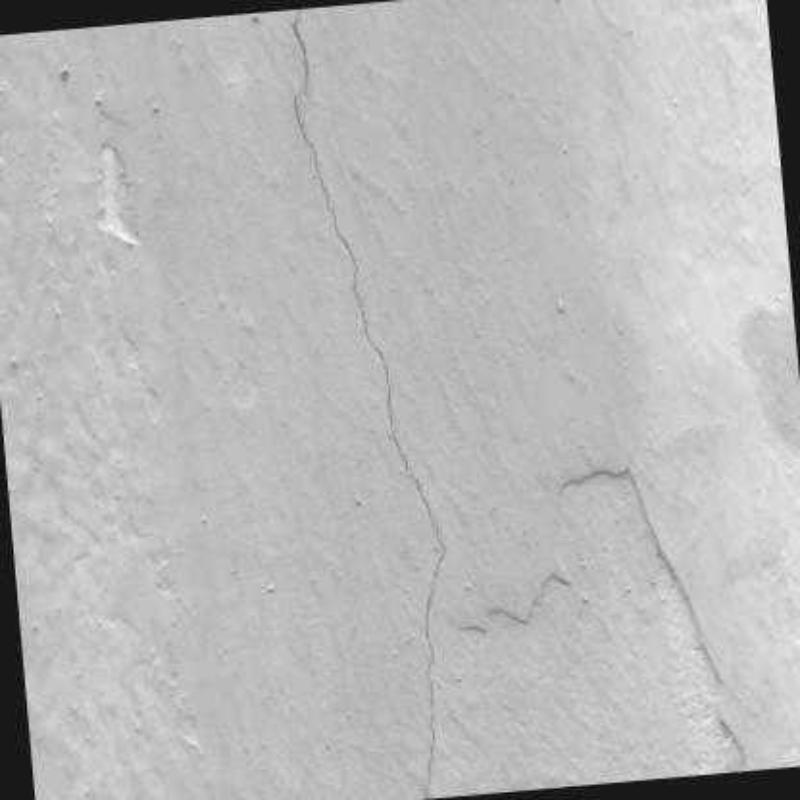pothole: (288, 7, 448, 800)
